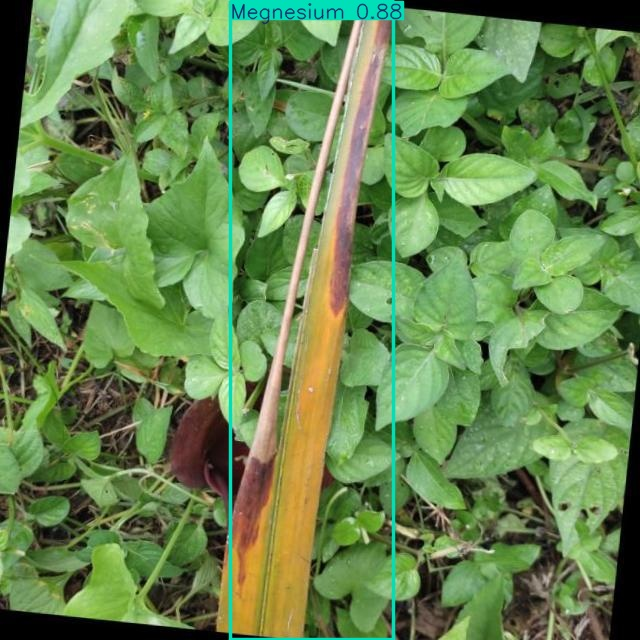Megnesium: (230, 1, 393, 640)
